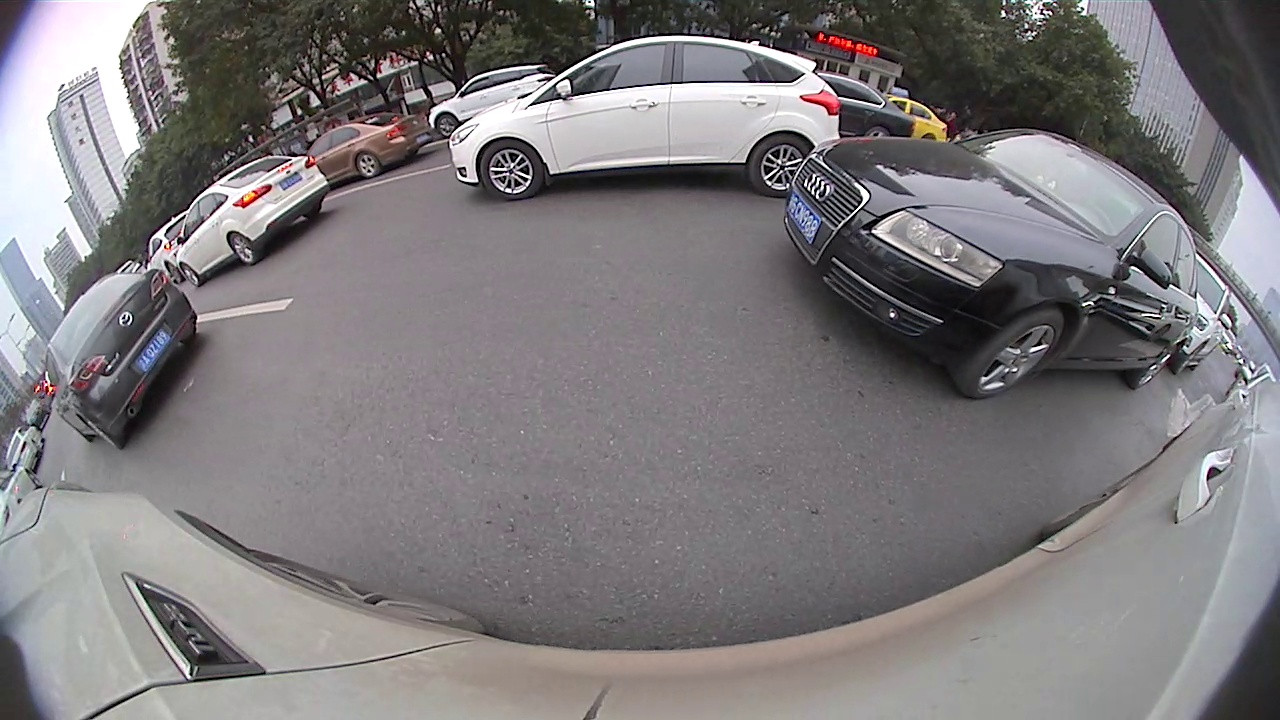car: (784, 126, 1200, 404), (448, 35, 845, 202), (43, 269, 202, 451), (174, 153, 331, 288), (303, 111, 436, 183), (1166, 243, 1231, 380), (3, 424, 44, 475)
front: (961, 308, 1065, 402), (481, 137, 546, 203), (435, 113, 459, 139), (183, 266, 203, 288)
rear: (751, 132, 812, 196), (1133, 344, 1178, 392), (229, 232, 256, 266), (355, 151, 380, 179), (166, 262, 184, 285)
